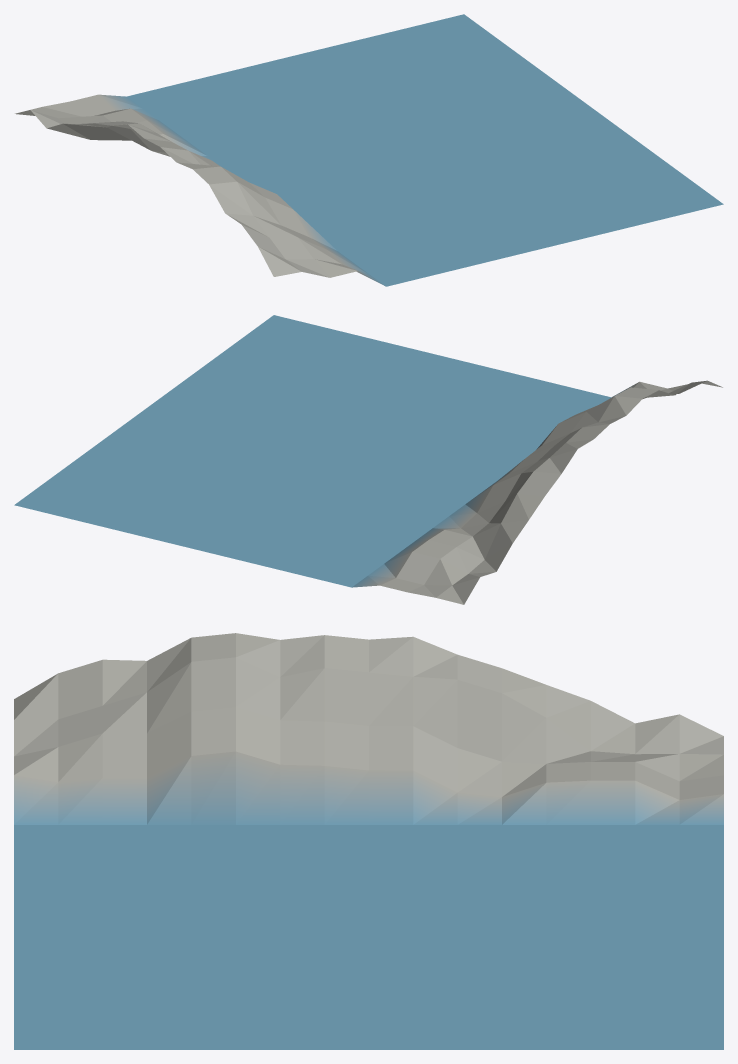
3 views of the same model, one above another, from view 1: azimuth 30°, elevation 25°; view 2: azimuth 150°, elevation 25°; view 3: azimuth 270°, elevation 25° (orthographic). The views are drawn at different scales.
Size of the model in its own units: 32 by 5.81 by 32.
